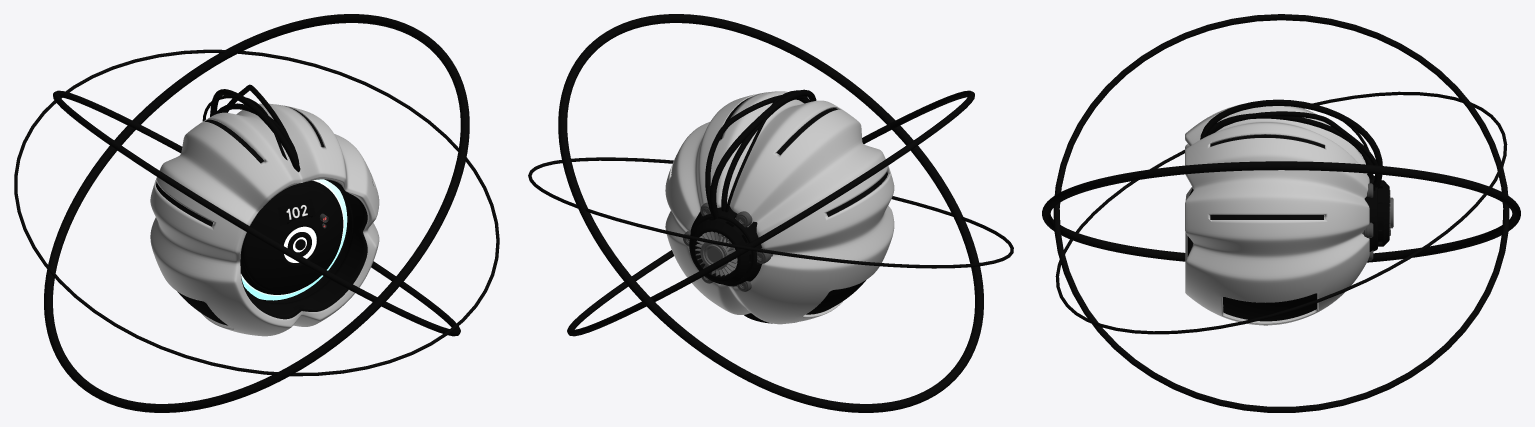
The model's file is future-eye102.glb.
3 views of the same model, side by side, from view 1: azimuth 30°, elevation 25°; view 2: azimuth 150°, elevation 25°; view 3: azimuth 270°, elevation 25° (orthographic). The views are drawn at different scales.
Parts seen in each view (by area): view 1: Object_7, Object_6, Object_14, Object_17, Object_16, Object_19, Object_18, Object_8, Object_27, Object_3, Object_2, Object_15 (+1 smaller); view 2: Object_6, Object_7, Object_17, Object_16, Object_19, Object_13, Object_18, Object_27, Object_28, Object_8, Object_25, Object_14 (+4 smaller); view 3: Object_6, Object_16, Object_17, Object_19, Object_18, Object_15, Object_7, Object_27, Object_13, Object_14, Object_25, Object_24.
Boxes of the visible parts, box(x1,y1,x2,y2) form: Object_7: box(150, 103, 375, 336); Object_6: box(150, 103, 379, 332); Object_14: box(156, 107, 367, 319); Object_17: box(44, 36, 469, 412); Object_16: box(53, 90, 460, 336); Object_19: box(14, 49, 499, 376); Object_18: box(225, 14, 427, 59); Object_8: box(150, 151, 376, 323); Object_27: box(210, 89, 300, 172); Object_3: box(241, 179, 347, 300); Object_2: box(241, 180, 343, 295); Object_15: box(177, 232, 311, 325); Object_6: box(665, 91, 894, 321); Object_7: box(669, 91, 894, 324); Object_17: box(572, 14, 983, 412); Object_16: box(567, 90, 974, 336); Object_19: box(528, 157, 1013, 268); Object_13: box(689, 206, 761, 286); Object_18: box(558, 36, 605, 193); Object_27: box(709, 89, 816, 233); Object_28: box(695, 231, 737, 276); Object_8: box(689, 133, 894, 323); Object_25: box(705, 95, 809, 215); Object_14: box(671, 97, 887, 216); Object_6: box(1185, 105, 1369, 325); Object_16: box(1053, 14, 1509, 412); Object_17: box(1042, 161, 1520, 262); Object_19: box(1055, 91, 1507, 334); Object_18: box(1281, 161, 1488, 195); Object_15: box(1224, 293, 1317, 321); Object_7: box(1185, 106, 1368, 323); Object_27: box(1200, 99, 1382, 188); Object_13: box(1364, 174, 1389, 251); Object_14: box(1187, 134, 1324, 312); Object_25: box(1213, 111, 1379, 190); Object_24: box(1204, 113, 1372, 179).
Size of the model in its own units: 4.74 by 2.9 by 4.78.
11 materials, 1 textured.
